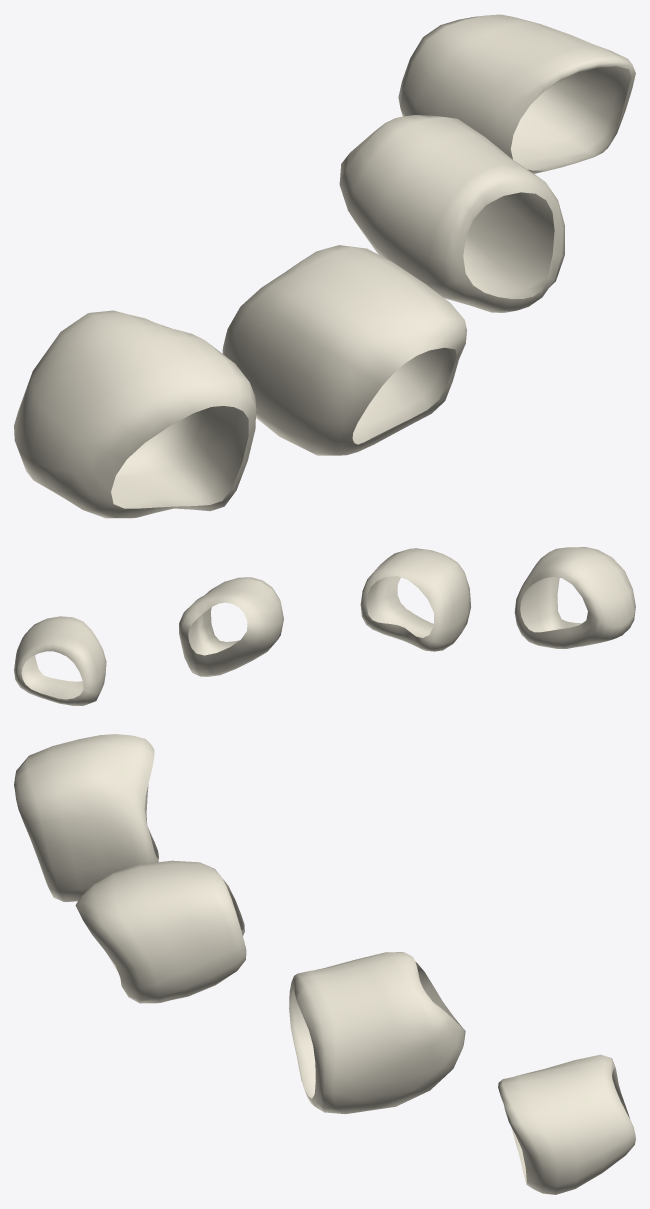
The picture shows the model from 3 angles, top to bottom: view 1: azimuth 30°, elevation 25°; view 2: azimuth 150°, elevation 25°; view 3: azimuth 270°, elevation 25°; orthographic projection. The views are drawn at different scales.
Parts seen in each view (by area): view 1: ZA_e0facdef9a3a4f6e; view 2: ZA_e0facdef9a3a4f6e; view 3: ZA_e0facdef9a3a4f6e.
Boxes of the visible parts, <box> form: ZA_e0facdef9a3a4f6e: <box>14,14,635,518</box>; ZA_e0facdef9a3a4f6e: <box>14,547,635,705</box>; ZA_e0facdef9a3a4f6e: <box>14,734,635,1194</box>.
Size of the model in its own units: 0.0517 by 0.0126 by 0.0408.
